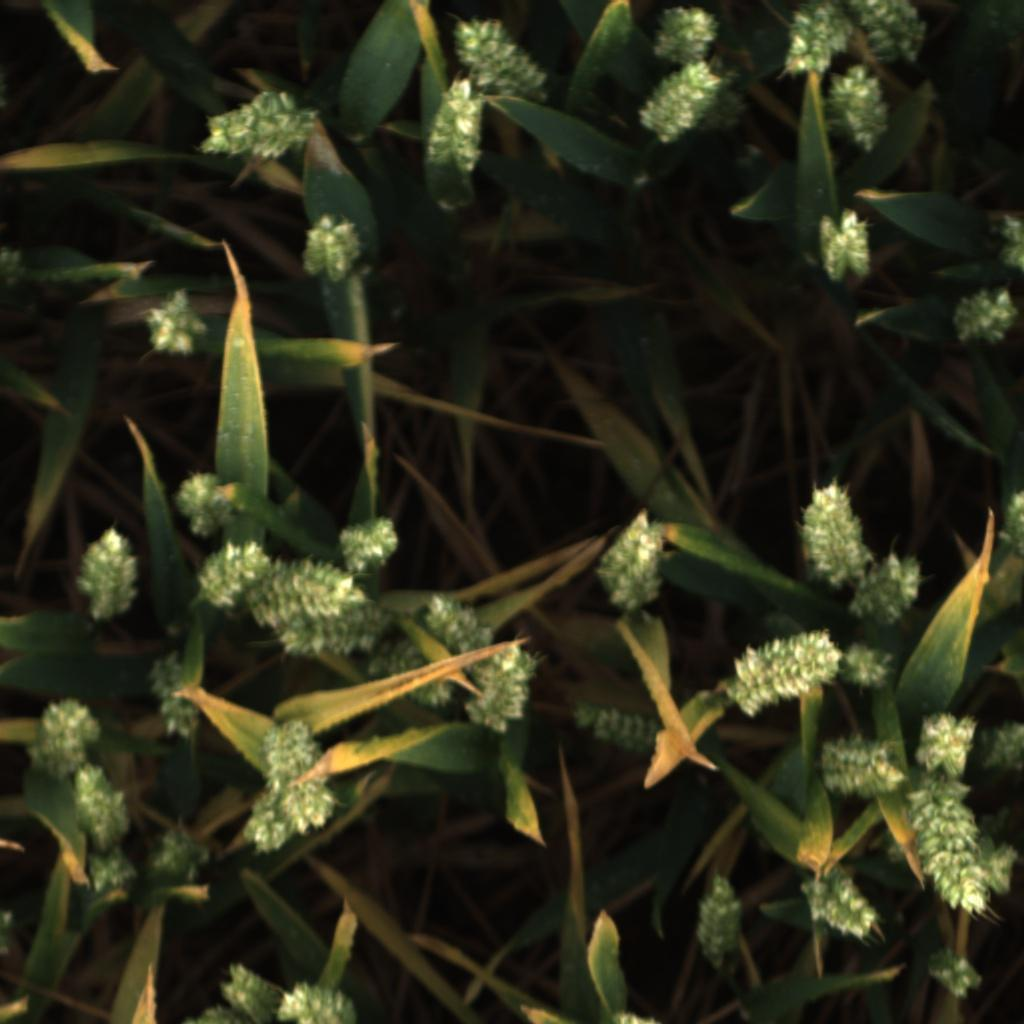0-0: (906, 782, 996, 919), (719, 626, 845, 721), (196, 84, 322, 167), (446, 16, 555, 105), (794, 475, 876, 591), (248, 551, 368, 627), (588, 508, 672, 615), (272, 593, 392, 665), (635, 58, 726, 150), (357, 635, 460, 715), (790, 864, 886, 947), (22, 694, 105, 783), (823, 60, 896, 159), (420, 82, 492, 181), (462, 640, 537, 735), (775, 0, 860, 82), (73, 526, 142, 625), (815, 729, 908, 802), (190, 535, 271, 616), (846, 553, 934, 627), (688, 870, 750, 974), (146, 652, 215, 745), (849, 0, 941, 65), (417, 583, 495, 659), (168, 460, 245, 536), (71, 764, 136, 854), (256, 715, 329, 795), (947, 280, 1024, 355), (137, 286, 210, 365), (571, 701, 670, 759), (809, 205, 877, 287), (295, 208, 364, 287), (213, 957, 291, 1024), (640, 7, 723, 66), (911, 709, 979, 777), (335, 513, 405, 573), (274, 979, 364, 1024), (150, 821, 210, 887), (236, 788, 292, 858), (281, 778, 341, 838), (925, 945, 985, 999), (84, 847, 141, 898), (842, 641, 898, 692), (988, 211, 1024, 290), (992, 489, 1024, 571), (978, 842, 1021, 898), (987, 717, 1024, 773), (179, 1002, 248, 1024)
